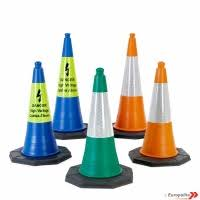cones: (66, 67, 135, 191), (129, 62, 192, 168), (9, 62, 69, 167)
